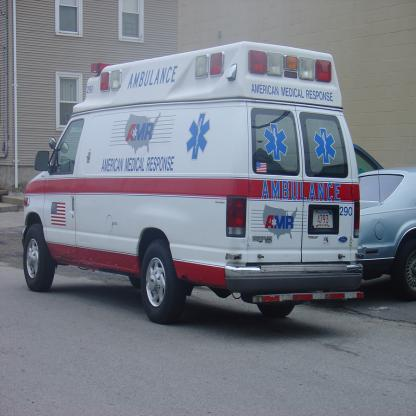Ambulance - v1 Ambulance last generate: (20, 39, 364, 325)
